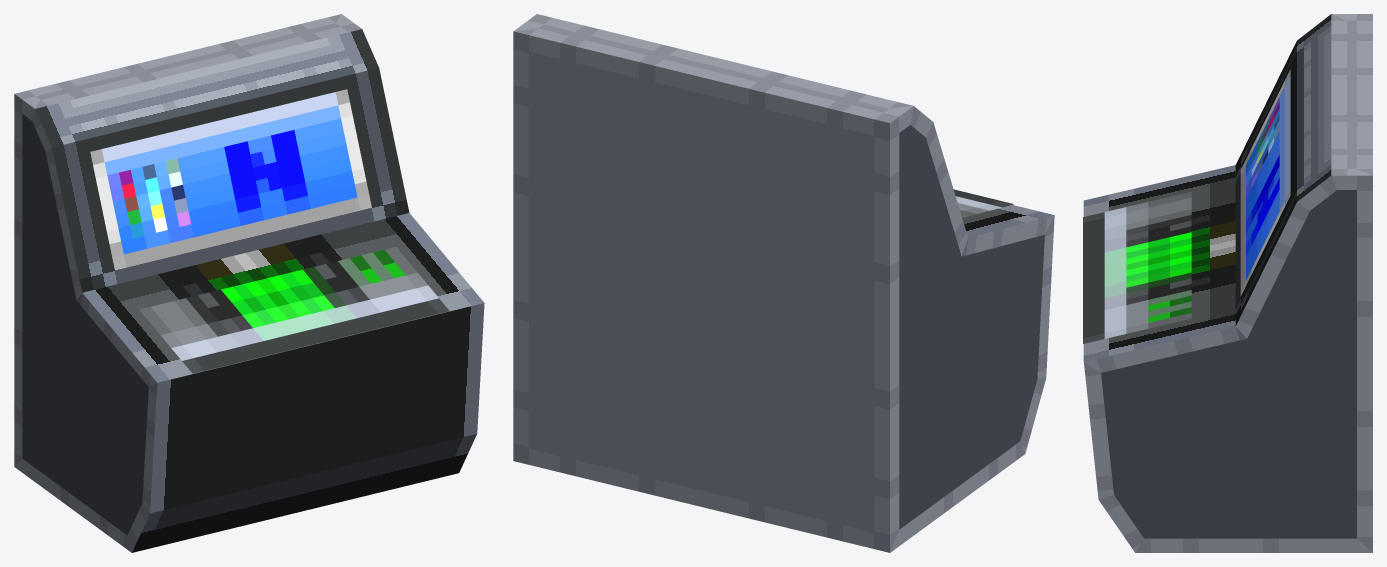
The model's file is modular_computer.glb.
3 renders of one model, left to right at view 1: azimuth 30°, elevation 25°; view 2: azimuth 150°, elevation 25°; view 3: azimuth 270°, elevation 25°, orthographic. The views are drawn at different scales.
Parts seen in each view (by area): view 1: Console_Housing, Program_Screen, Powered_Keyboard; view 2: Console_Housing, Powered_Keyboard; view 3: Console_Housing, Powered_Keyboard, Program_Screen.
Part boxes in pixels (x1,y1,x2,y2): Console_Housing: (14,14,484,552); Program_Screen: (90,89,371,270); Powered_Keyboard: (139,247,449,373); Console_Housing: (513,14,1054,552); Powered_Keyboard: (953,189,1013,217); Console_Housing: (1083,14,1372,552); Powered_Keyboard: (1083,192,1191,343); Program_Screen: (1240,69,1290,296).
Size of what is drawn, in the model's own units: 1.56 by 1.7 by 1.18.
3 materials, 3 textured.
